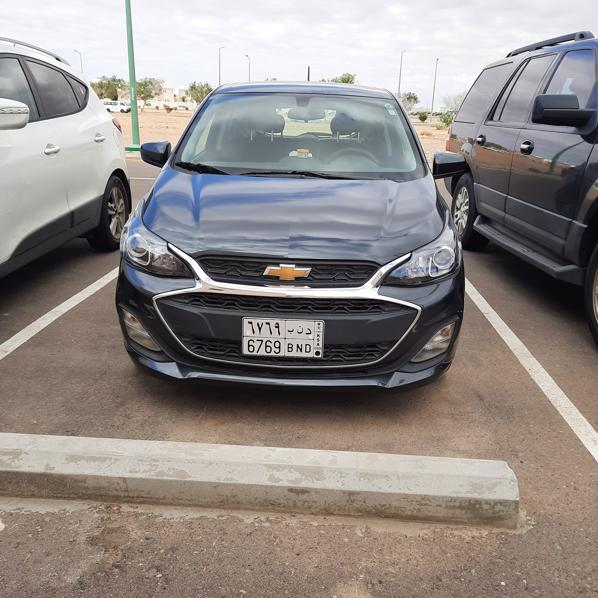numberplate: (241, 319, 323, 356)
